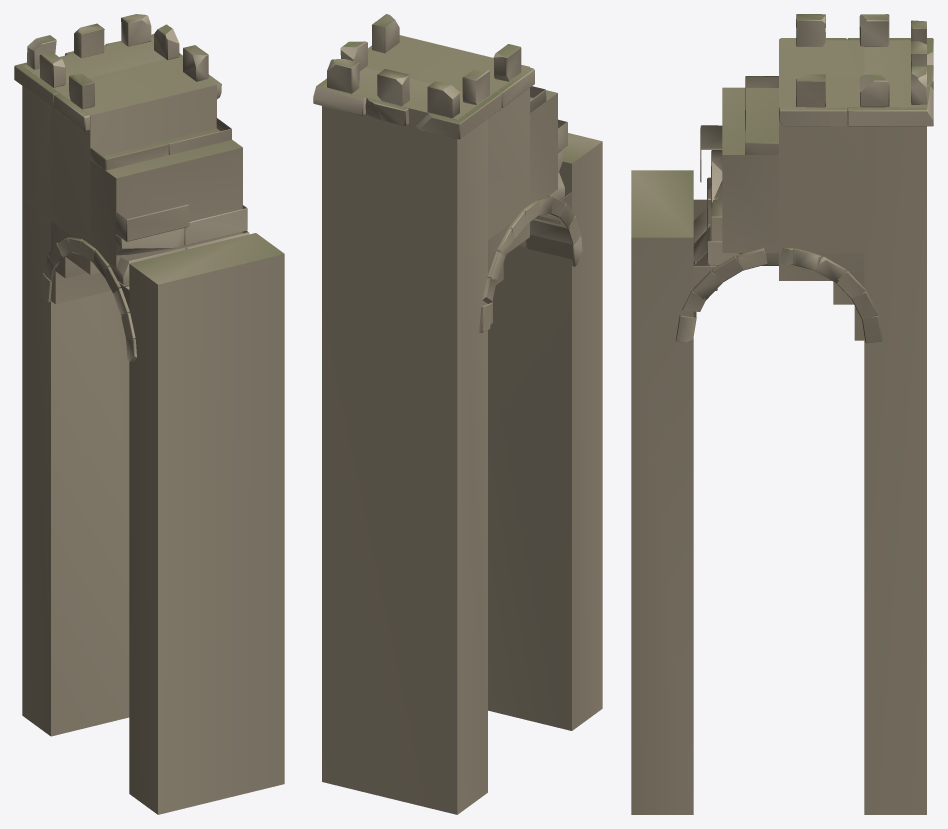
File: bridge_tower_broken.glb
3 views of the same model, side by side, from view 1: azimuth 30°, elevation 25°; view 2: azimuth 150°, elevation 25°; view 3: azimuth 270°, elevation 25° (orthographic). The views are drawn at different scales.
Parts seen in each view (by area): view 1: bridge_tower_broken_far, bridge_tower_broken; view 2: bridge_tower_broken_far, bridge_tower_broken; view 3: bridge_tower_broken_far, bridge_tower_broken.
Part boxes in pixels (box(x1,y1,x2,y2)): bridge_tower_broken_far: box(22, 37, 284, 814); bridge_tower_broken: box(14, 14, 249, 362); bridge_tower_broken_far: box(322, 35, 602, 814); bridge_tower_broken: box(313, 14, 582, 332); bridge_tower_broken_far: box(631, 40, 926, 814); bridge_tower_broken: box(675, 14, 933, 343).
Bounding box in the file's own units: 15.19 × 71.2 × 26.59.
